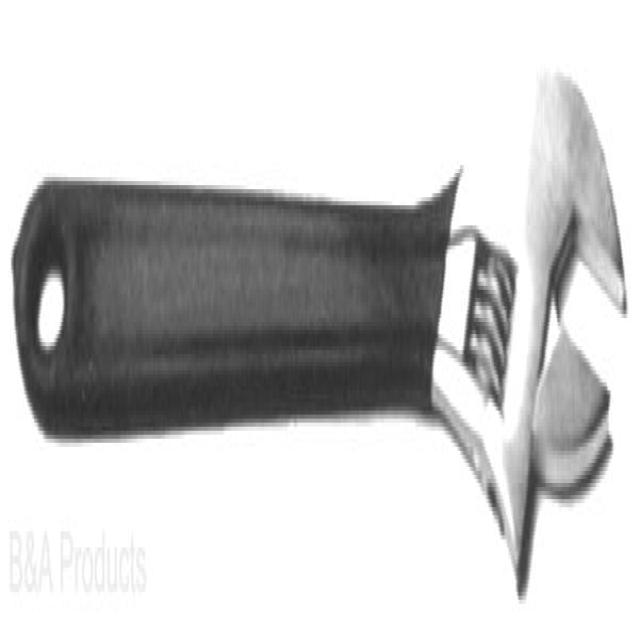wrench: (7, 41, 640, 631)
